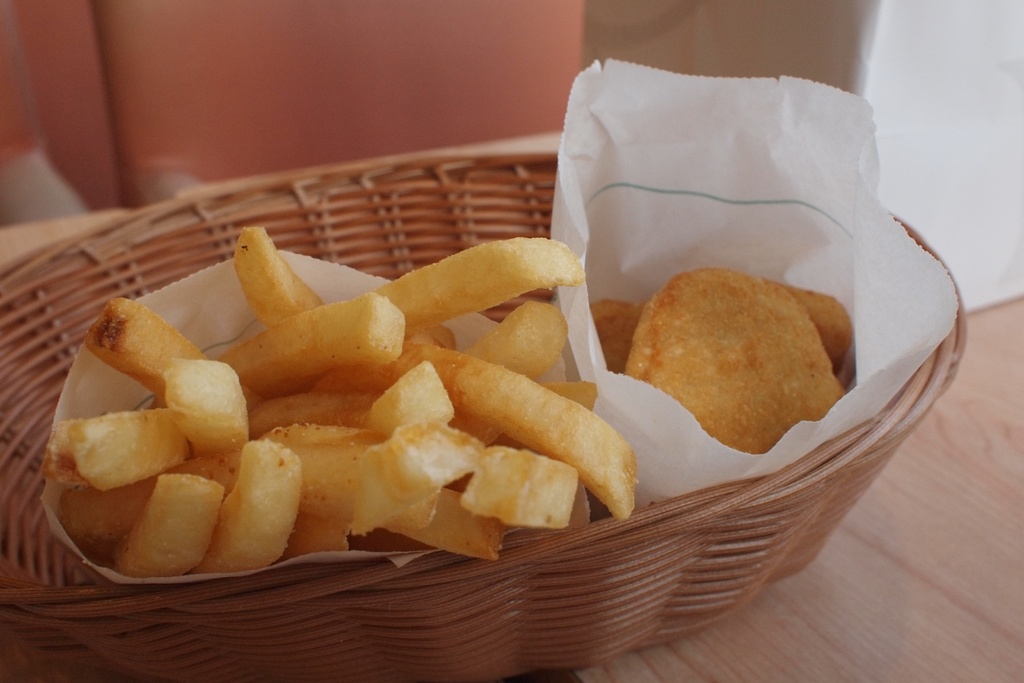French fries: (20, 212, 652, 513)
